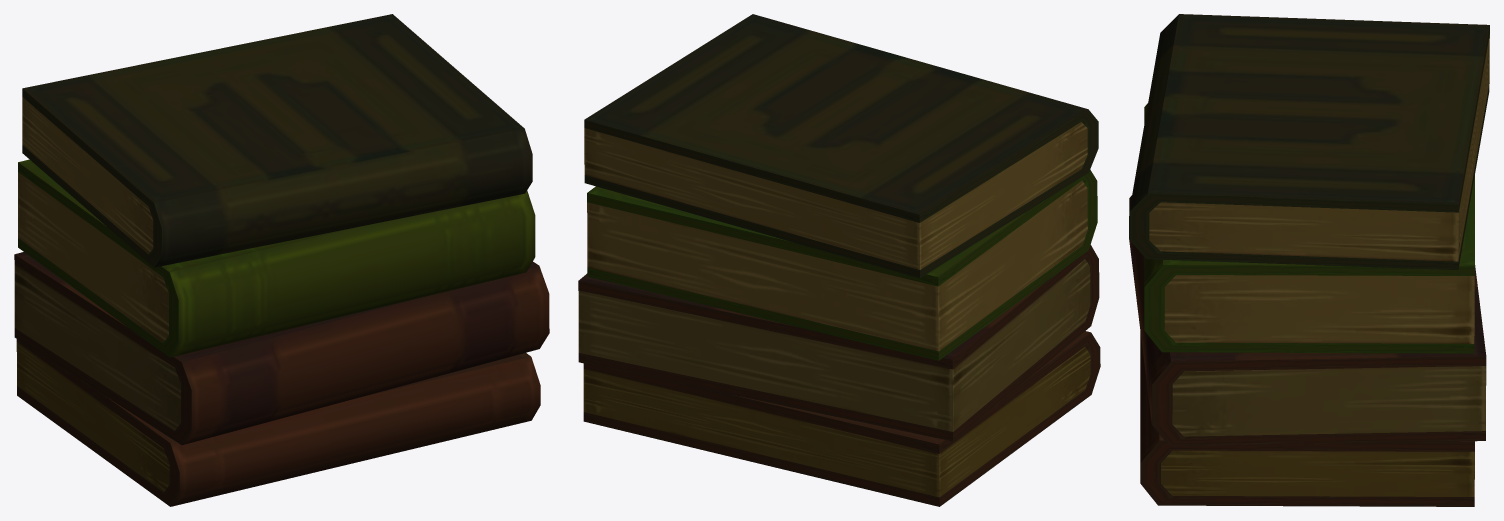
The model's file is Book_Stack_1.glb.
3 views of the same model, side by side, from view 1: azimuth 30°, elevation 25°; view 2: azimuth 150°, elevation 25°; view 3: azimuth 270°, elevation 25° (orthographic). The views are drawn at different scales.
Parts seen in each view (by area): view 1: Book_Stack_1; view 2: Book_Stack_1; view 3: Book_Stack_1.
Boxes of the visible parts, bbox=[...] form: Book_Stack_1: bbox=[14, 14, 549, 506]; Book_Stack_1: bbox=[578, 14, 1100, 506]; Book_Stack_1: bbox=[1129, 14, 1489, 506].
Bounding box in the file's own units: 0.2849 × 0.2137 × 0.2263.
1 material, 1 textured.
